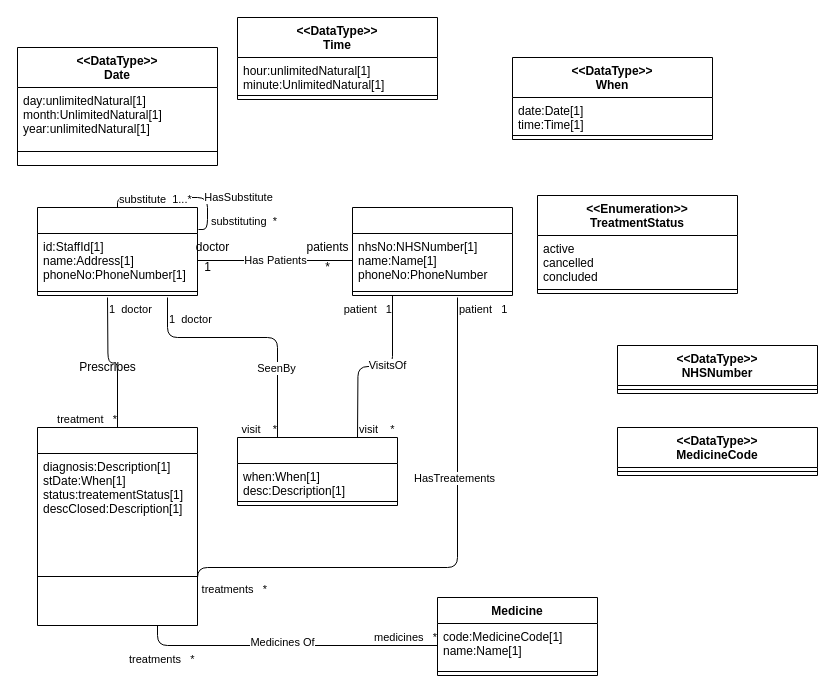
Image size: 835x693. Some labels were removed from this diagram. The shapes that lost their labels are listed below. From the top down, each one's box as (x1, y1, x2, y2) in pixels, then its label:
(36, 206, 198, 296): MedicalDoctor
(352, 206, 512, 296): Patient
(236, 436, 398, 506): Visit
(36, 426, 198, 626): Treatment
